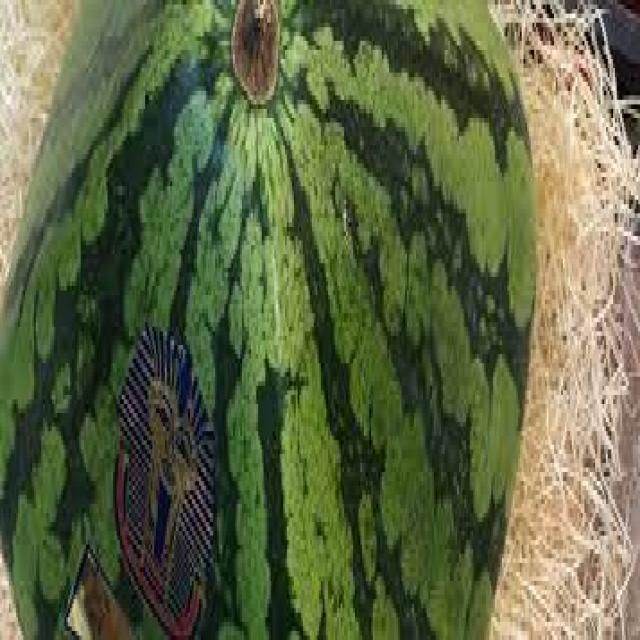watermelon: (0, 0, 538, 635)
